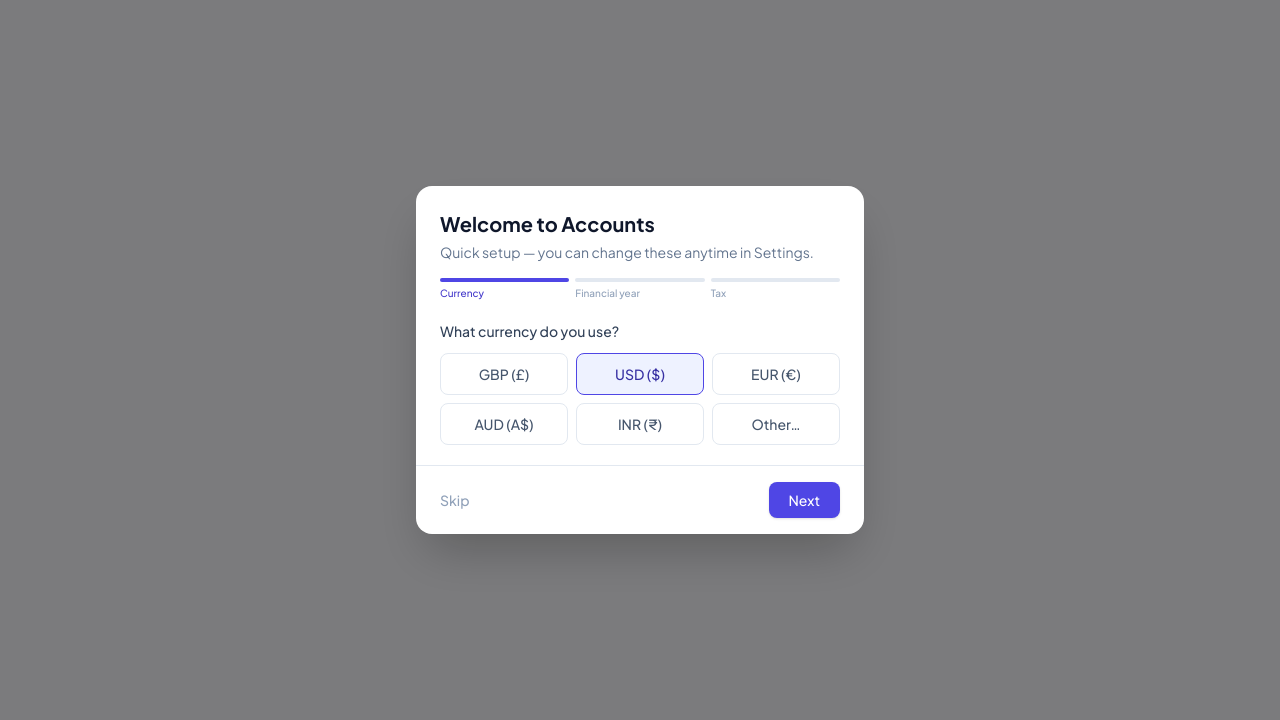
it: SetupWizard › custom currency input enables and requires non-empty text
Click the button "Other…". click: (776, 424)
box: x1=712 y1=403 x2=840 y2=445
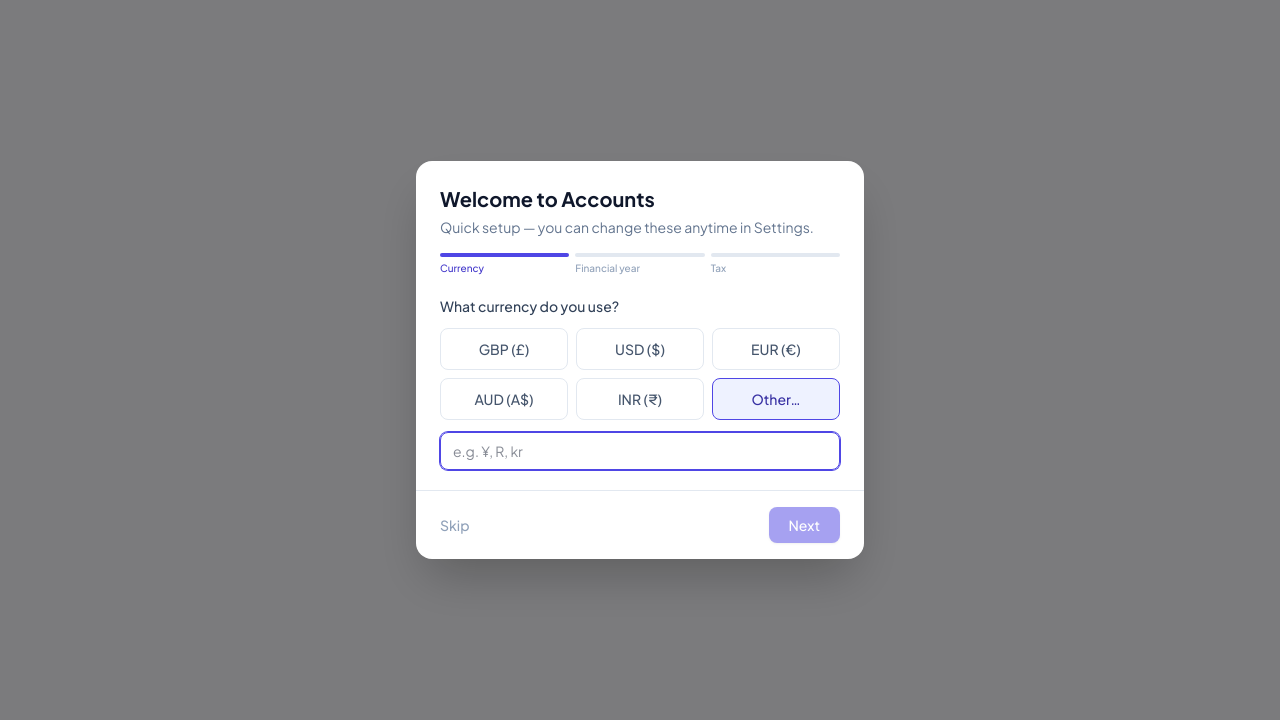
Result: the field with placeholder "e.g. ¥, R, kr" is shown at x1=440 y1=432 x2=840 y2=470
Result: the button "Next" is disabled at x1=768 y1=507 x2=840 y2=543
